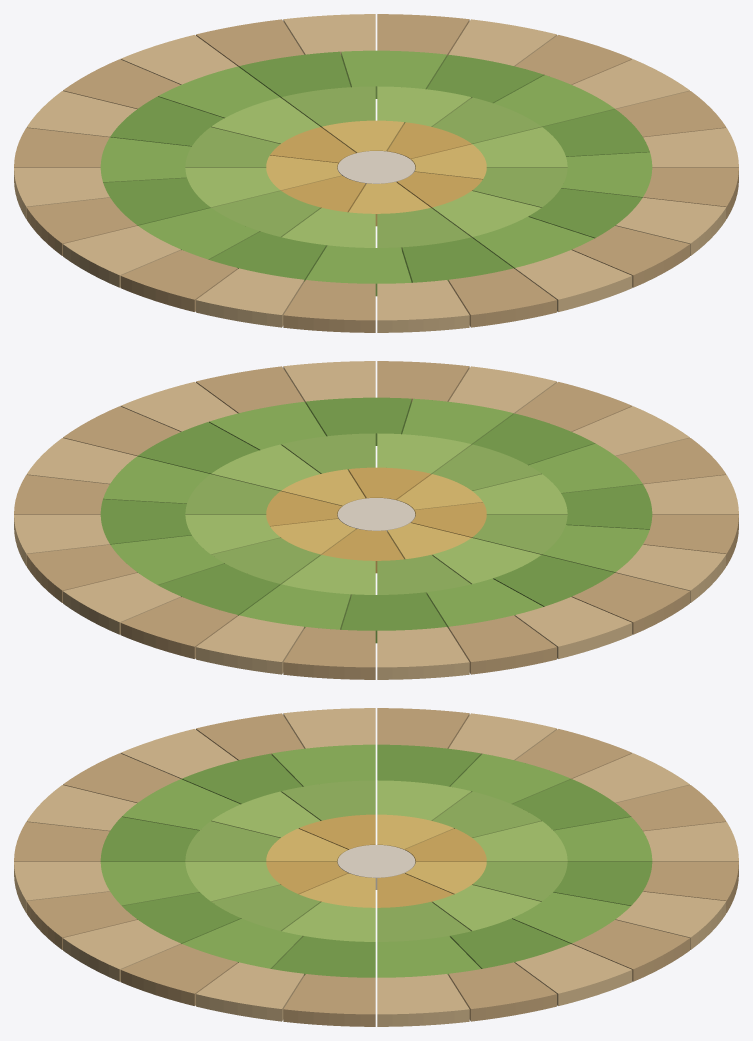
Rendered from Arena.glb.
3 views of the same model, one above another, from view 1: azimuth 30°, elevation 25°; view 2: azimuth 150°, elevation 25°; view 3: azimuth 270°, elevation 25° (orthographic).
Parts seen in each view (by area): view 1: Ring4_Outer_09, Ring4_Outer_10, Ring4_Outer_08, Ring4_Outer_11, Ring4_Outer_07, Ring4_Outer_12, Ring4_Outer_06, Ring4_Outer_13, Ring4_Outer_05, Ring4_Outer_14, Ring3_Green_14, Ring3_Green_02 (+49 smaller); view 2: Ring4_Outer_01, Ring4_Outer_02, Ring4_Outer_03, Ring4_Outer_00, Ring4_Outer_04, Ring4_Outer_23, Ring4_Outer_05, Ring4_Outer_22, Ring4_Outer_06, Ring4_Outer_21, Ring3_Green_09, Ring3_Green_02 (+49 smaller); view 3: Ring4_Outer_17, Ring4_Outer_18, Ring4_Outer_16, Ring4_Outer_19, Ring4_Outer_15, Ring4_Outer_20, Ring4_Outer_14, Ring4_Outer_21, Ring4_Outer_13, Ring4_Outer_22, Ring3_Green_08, Ring3_Green_15 (+49 smaller).
Part boxes in pixels (x1,y1,x2,y2): Ring4_Outer_09: (283,280,375,332); Ring4_Outer_10: (377,280,469,332); Ring4_Outer_08: (196,268,304,327); Ring4_Outer_11: (448,268,556,327); Ring4_Outer_07: (120,250,237,311); Ring4_Outer_12: (515,250,632,311); Ring4_Outer_06: (63,226,180,287); Ring4_Outer_13: (572,226,689,287); Ring4_Outer_05: (26,197,137,255); Ring4_Outer_14: (615,197,726,255); Ring3_Green_14: (341,50,447,98); Ring3_Green_02: (100,137,191,182); Ring4_Outer_01: (283,627,375,679); Ring4_Outer_02: (377,627,469,679); Ring4_Outer_03: (448,615,556,674); Ring4_Outer_00: (196,615,304,674); Ring4_Outer_04: (515,597,632,658); Ring4_Outer_23: (120,597,237,658); Ring4_Outer_05: (572,573,689,634); Ring4_Outer_22: (63,573,180,634); Ring4_Outer_06: (615,544,726,602); Ring4_Outer_21: (26,544,137,602); Ring3_Green_09: (305,397,411,445); Ring3_Green_02: (426,578,543,628); Ring4_Outer_17: (283,974,375,1026); Ring4_Outer_18: (377,974,469,1026); Ring4_Outer_16: (196,962,304,1021); Ring4_Outer_19: (448,962,556,1021); Ring4_Outer_15: (120,944,237,1005); Ring4_Outer_20: (515,944,632,1005); Ring4_Outer_14: (63,920,180,981); Ring4_Outer_21: (572,920,689,981); Ring4_Outer_13: (26,891,137,949); Ring4_Outer_22: (615,891,726,949); Ring3_Green_08: (100,861,199,905); Ring3_Green_15: (553,861,652,905).
Size of the model in its own units: 18.4 by 0.35 by 18.4.
